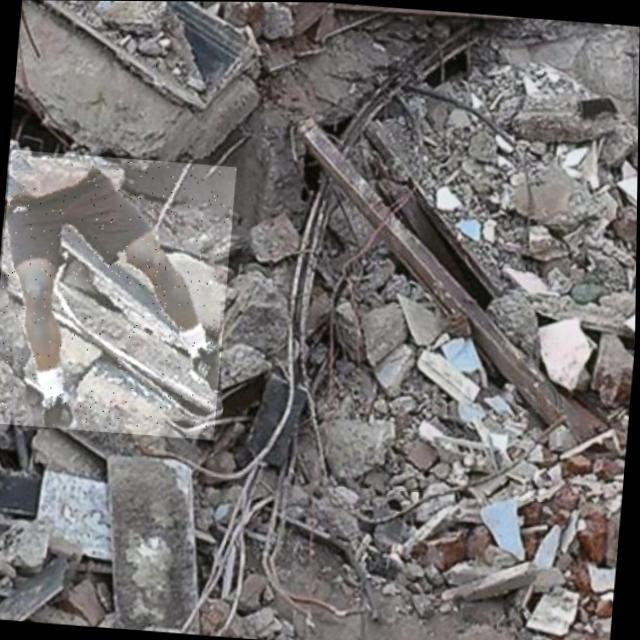Person in Rubble: (0, 149, 237, 439)
